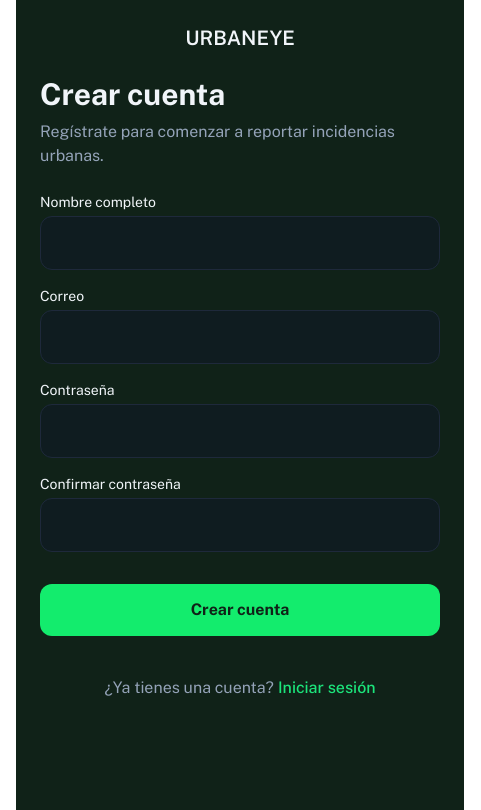
Test: RegisterPage › muestra un aviso en UI cuando el correo es inválido para registro
Expected: the heading "Crear cuenta" is shown, 40,76 -> 225,112
Step 1. Type "Ana Barrio" into the field labelled "Nombre completo" → (240, 243), box 40,216 -> 440,270
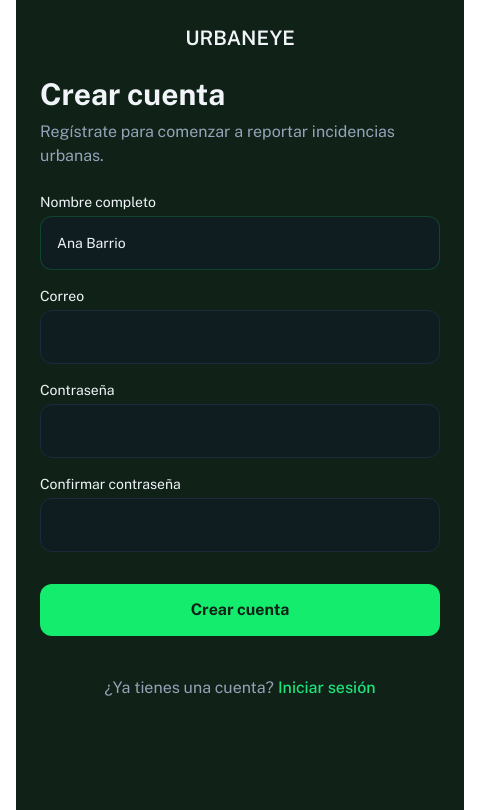
Step 2. Type "info@email.com" into the field labelled "Correo" → (240, 337), box 40,310 -> 440,364
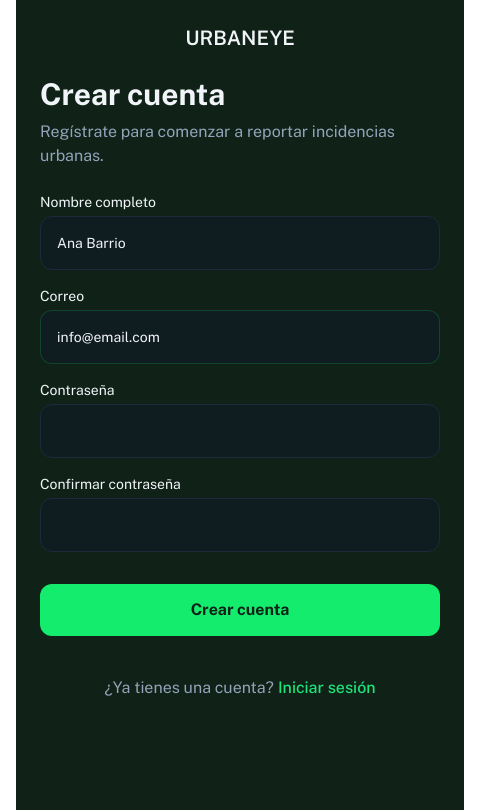
Step 3. Type "supersegura" into the password field labelled "Contraseña" → (240, 431), box 40,404 -> 440,458
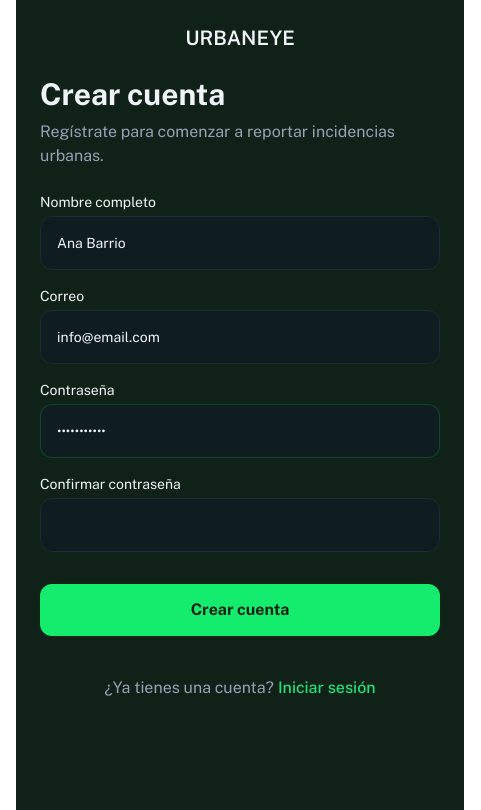
Step 4. Type "supersegura" into the password field labelled "Confirmar contraseña" → (240, 525), box 40,498 -> 440,552
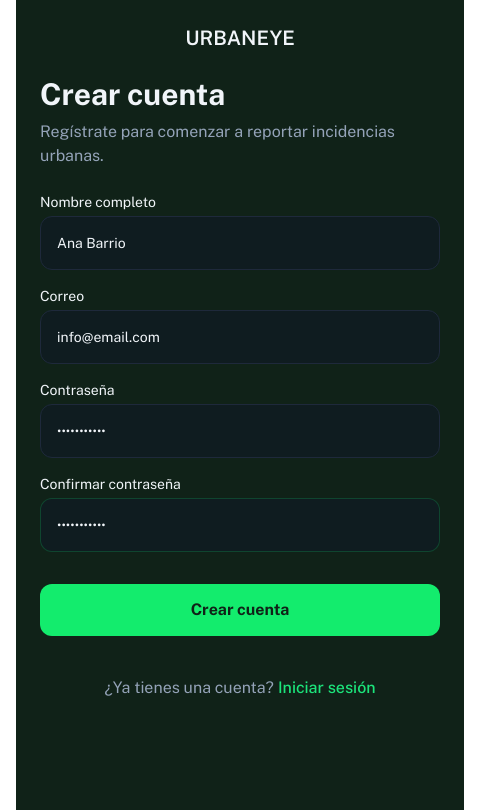
Step 5. Click the button "Crear cuenta" → (240, 610), box 40,584 -> 440,636
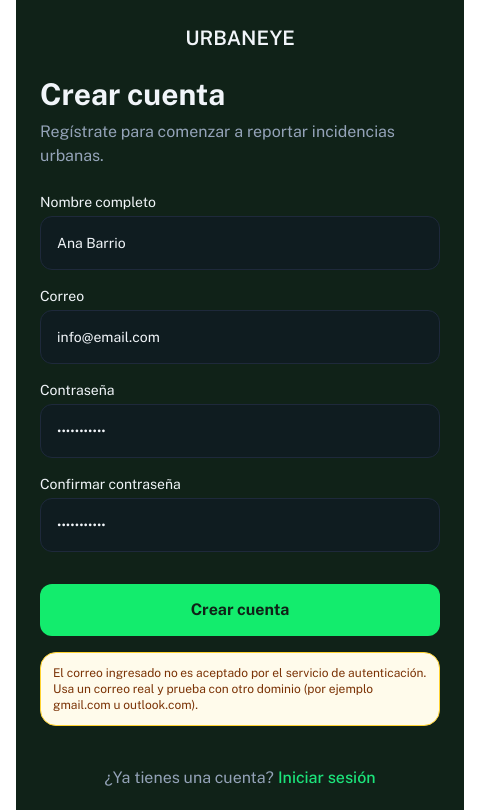
Expected: the text "El correo ingresado no es aceptado por el servicio de autenticación" is shown, 53,666 -> 426,712
